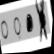correct: (23, 11, 35, 34)
not correct: (29, 0, 51, 42)
